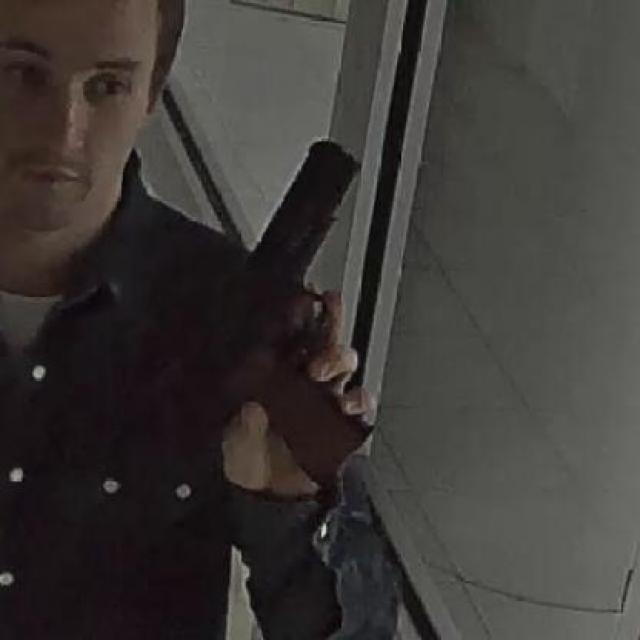gun: (200, 137, 394, 492)
